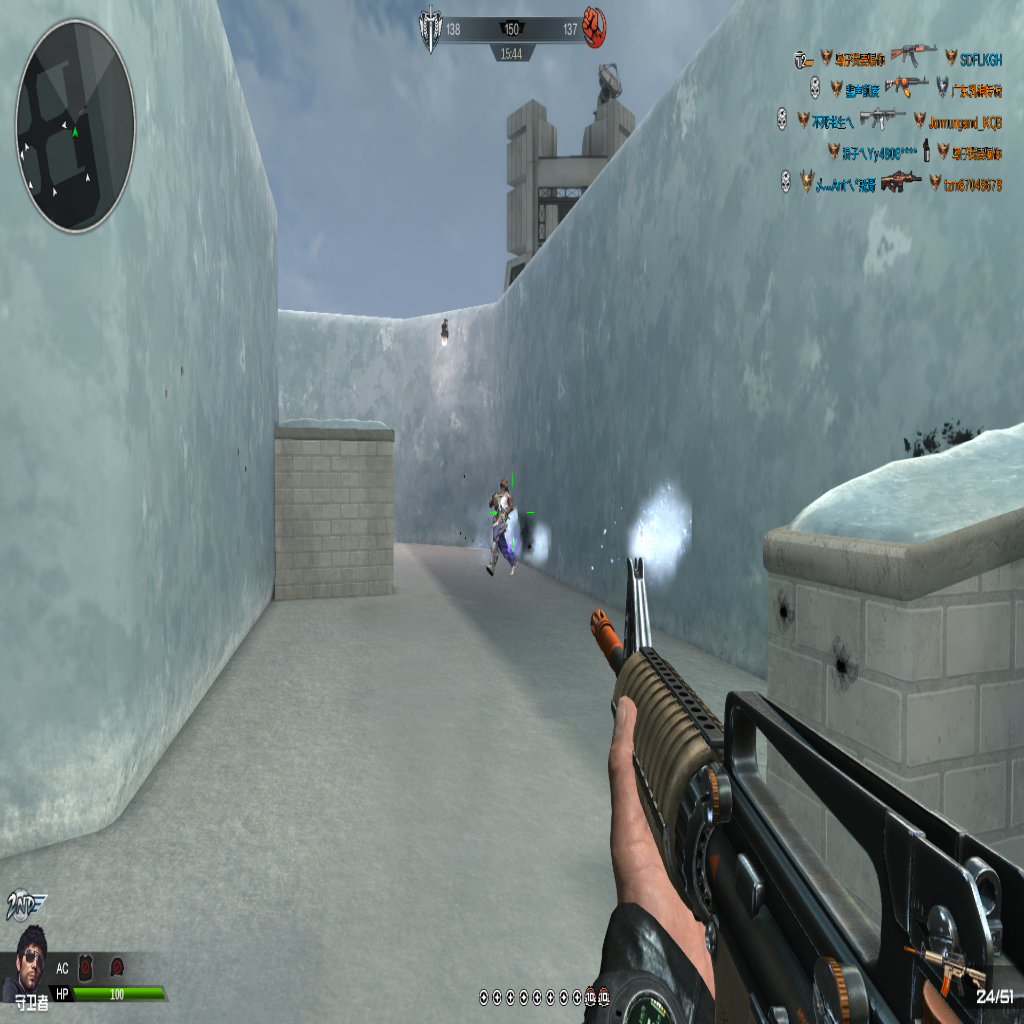tt: (488, 480, 518, 572)
